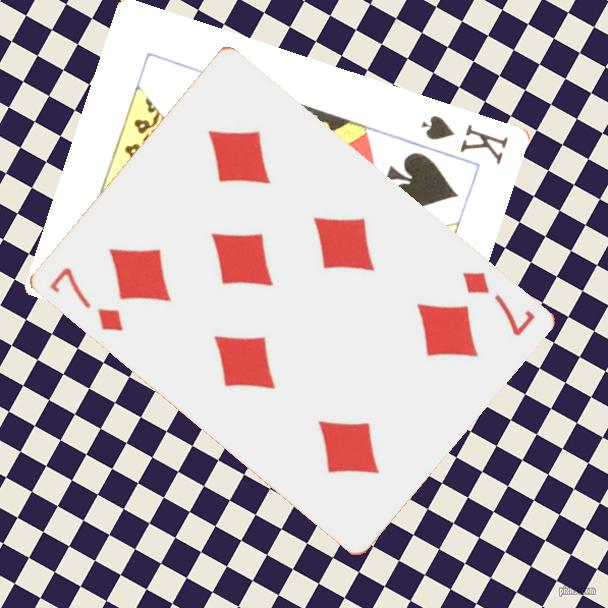d07: (458, 268, 538, 340), (45, 264, 126, 335)
s13: (417, 111, 512, 167)
